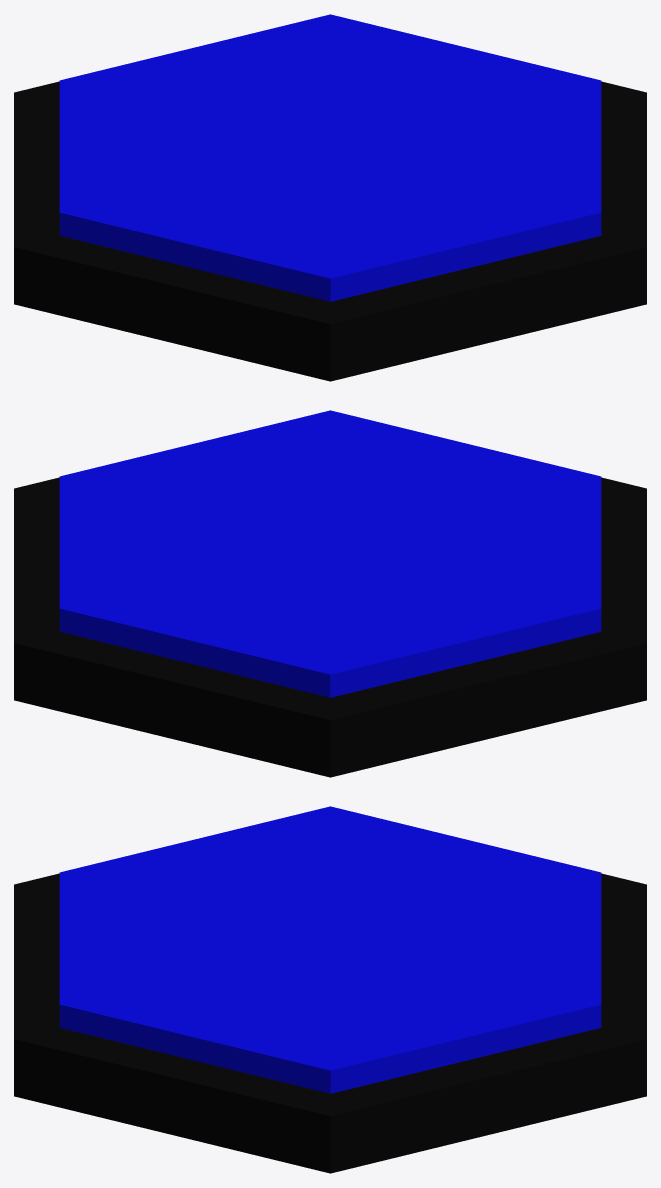
File: Start.fbx
The picture shows the model from 3 angles, top to bottom: view 1: azimuth 30°, elevation 25°; view 2: azimuth 150°, elevation 25°; view 3: azimuth 270°, elevation 25°; orthographic projection.
Visible parts, largest first — view 1: pCylinder2, pCylinder1; view 2: pCylinder2, pCylinder1; view 3: pCylinder2, pCylinder1.
Boxes of the visible parts, x1,y1,x2,y2 form: pCylinder2: (59,14,601,301); pCylinder1: (14,81,646,381); pCylinder2: (59,410,601,697); pCylinder1: (14,477,646,777); pCylinder2: (59,806,601,1093); pCylinder1: (14,873,646,1173).
Bounding box in the file's own units: 2 × 0.2435 × 1.73.
